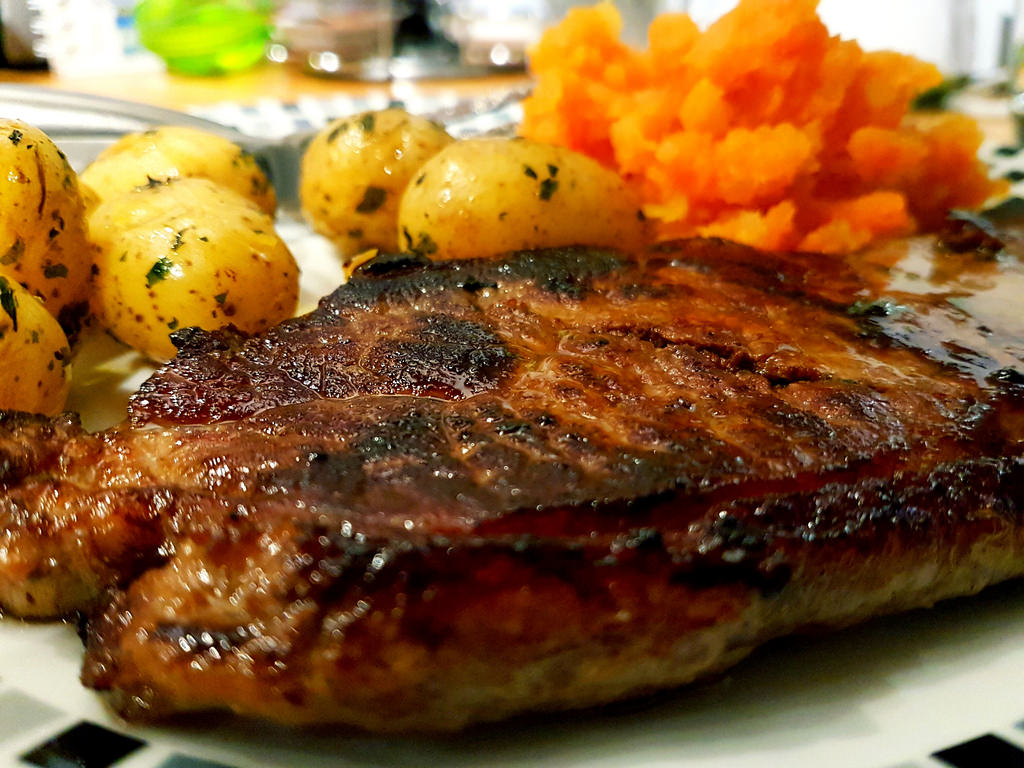boiled potatoes: (347, 114, 581, 263), (60, 155, 258, 317)
